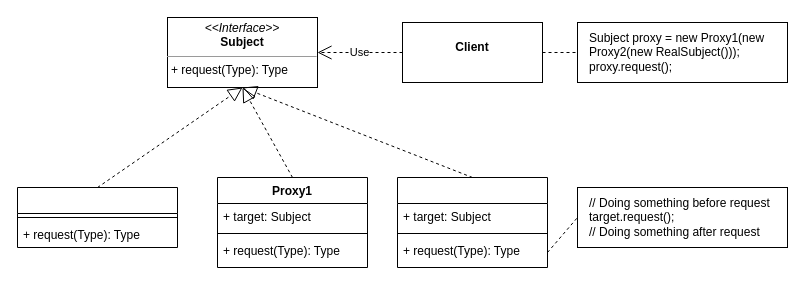
Image size: 805x288. Some labels were removed from this diagram. Here are the shapes that lost their labels. From the top down, the box of each, then its label:
(16, 186, 178, 248): RealSubject
(396, 176, 548, 268): Proxy2
